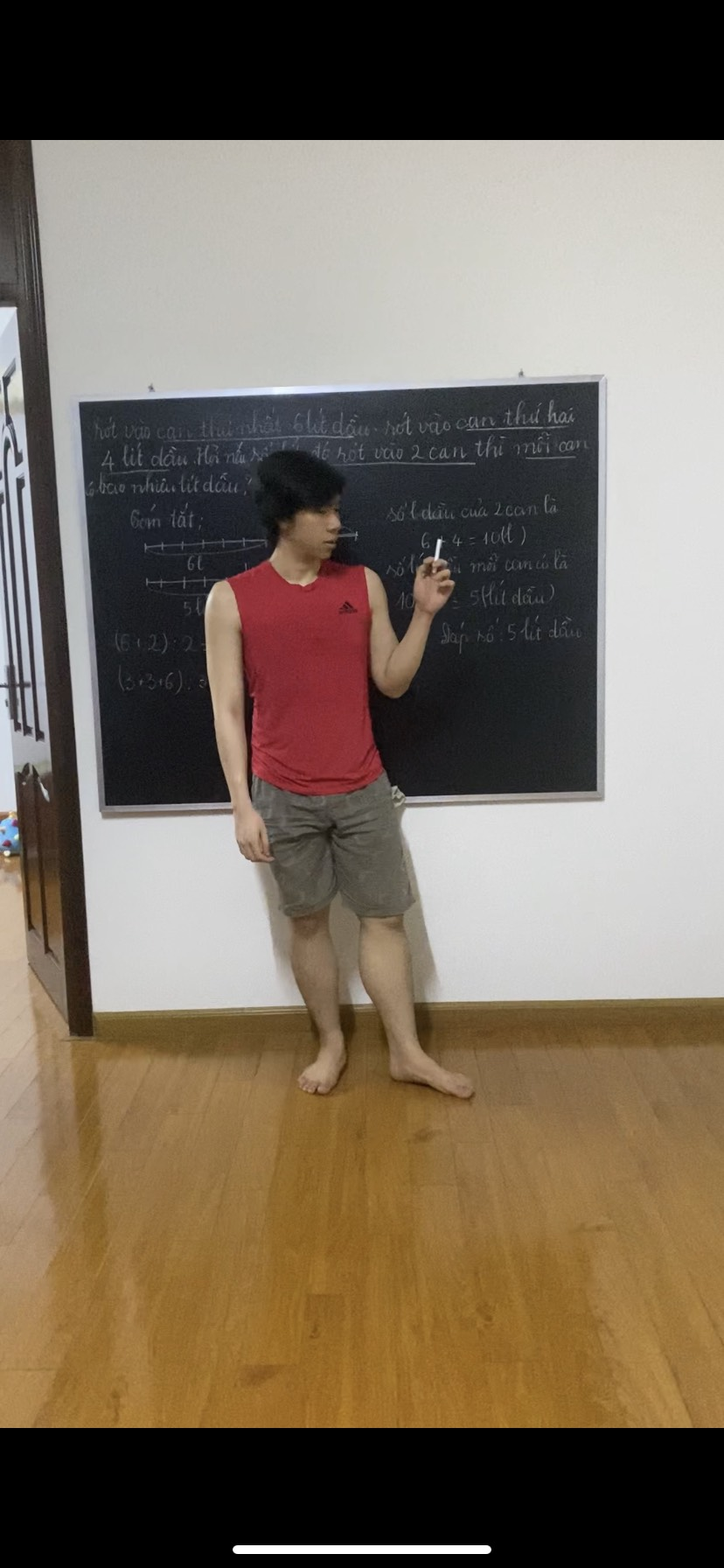cigarette: (431, 533, 449, 563)
person: (198, 449, 479, 1110)
